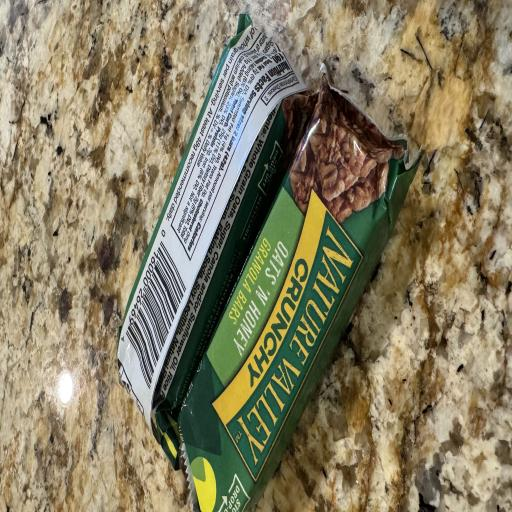granola: (179, 76, 418, 511), (118, 15, 305, 466)
